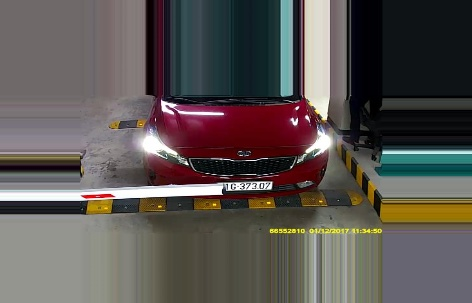plate: (219, 178, 270, 191)
